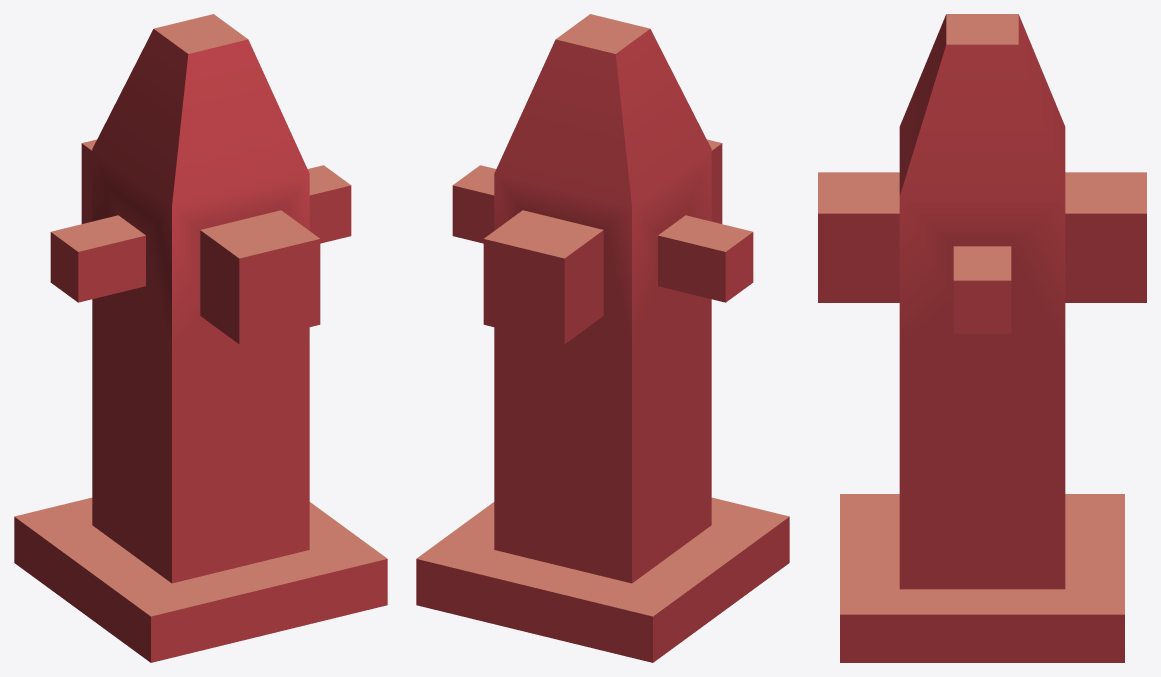
Rendered from hydrant_mesh.fbx.
The picture shows the model from 3 angles, left to right: view 1: azimuth 30°, elevation 25°; view 2: azimuth 150°, elevation 25°; view 3: azimuth 270°, elevation 25°; orthographic projection. The views are drawn at different scales.
Visible parts, largest first — view 1: hydrant_mesh; view 2: hydrant_mesh; view 3: hydrant_mesh.
Part boxes in pixels (x1=…): hydrant_mesh: x1=14, y1=14, x2=387, y2=662; hydrant_mesh: x1=416, y1=14, x2=789, y2=662; hydrant_mesh: x1=818, y1=14, x2=1146, y2=662.
Bounding box in the file's own units: 0.7849 × 1.51 × 0.7849.
Materials: 1 (1 with a texture image).
